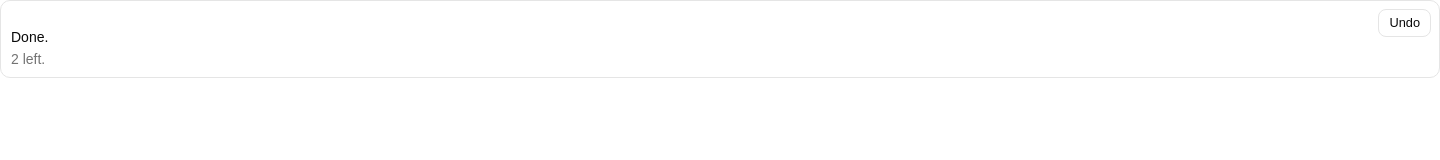
Test case: UndoNotice › treats only true as success, then cannot be triggered again
Later steps or results of the test are not shown.
Click the button "Undo": point(1405, 23) [1378,9,1431,37]
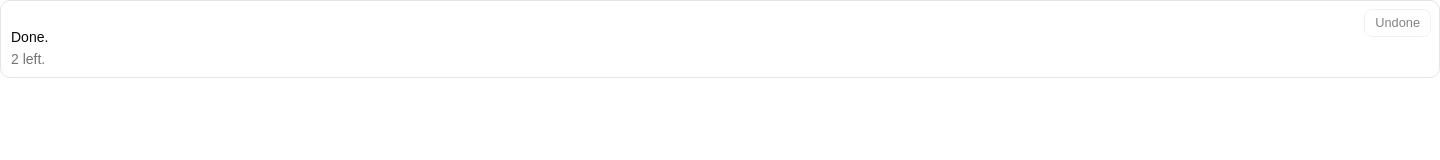
expect the button "Undone" is disabled: met, box [1364,9,1431,37]
